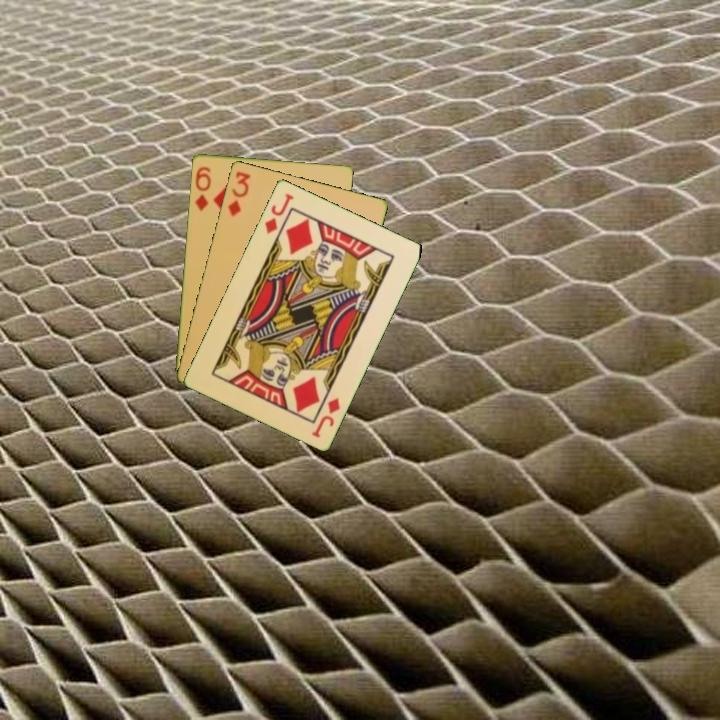3d: (224, 168, 253, 219)
6d: (191, 163, 214, 214)
Jd: (261, 189, 296, 236), (308, 394, 343, 440)
